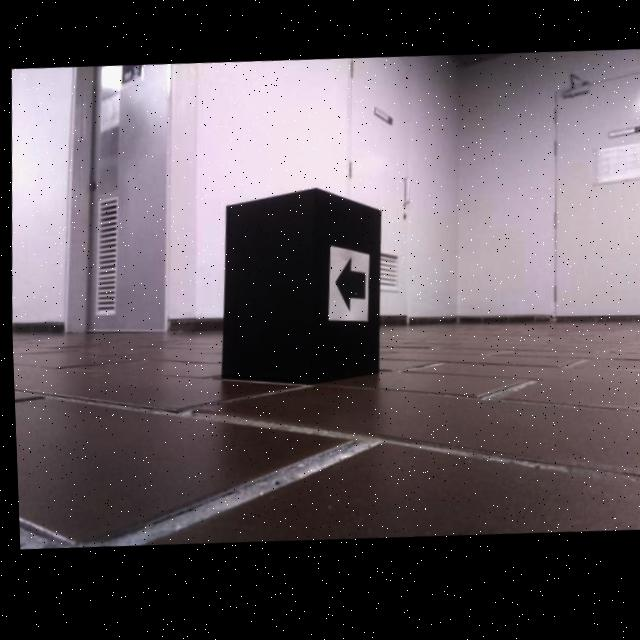LEFT: (332, 261, 362, 317)
